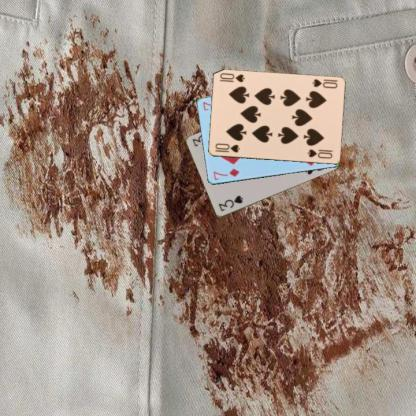10s: (309, 76, 339, 90), (212, 141, 241, 154)
3s: (216, 193, 245, 213)
7d: (211, 166, 240, 181)
